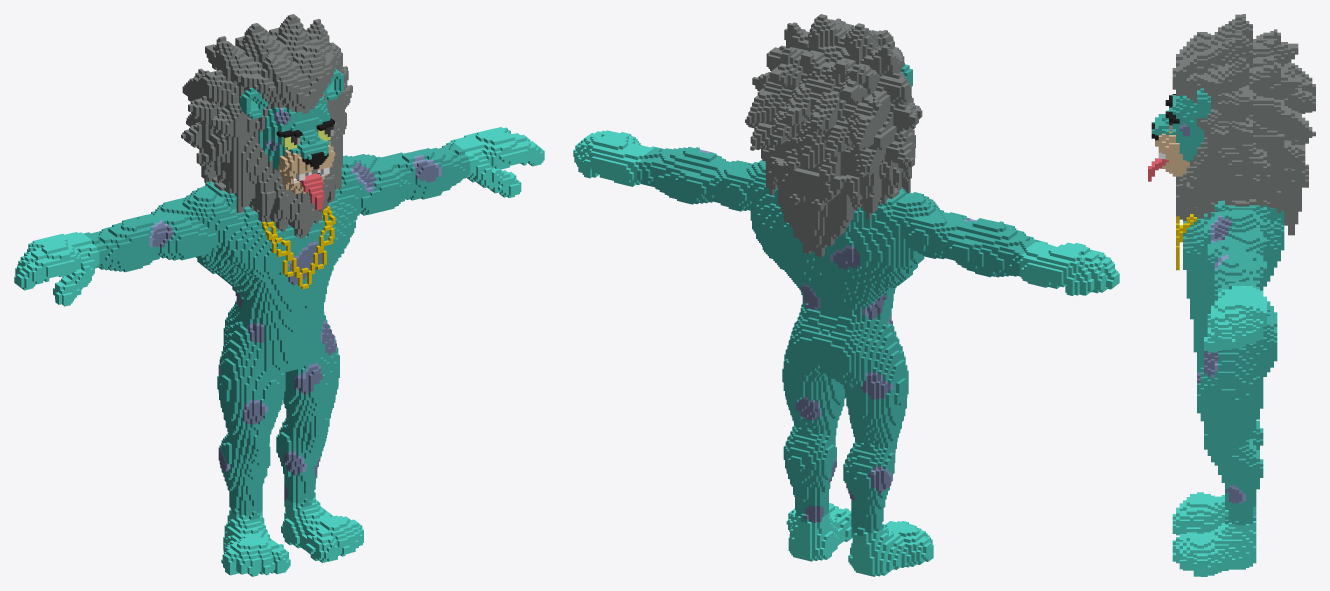
Rendered from 1096-CwSxVIk0.glb.
3 views of the same model, side by side, from view 1: azimuth 30°, elevation 25°; view 2: azimuth 150°, elevation 25°; view 3: azimuth 270°, elevation 25° (orthographic). The views are drawn at different scales.
Parts seen in each view (by area): view 1: tongue_out; view 2: tongue_out; view 3: tongue_out.
Boxes of the visible parts, bbox=[...] form: tongue_out: bbox=[14, 14, 544, 576]; tongue_out: bbox=[573, 14, 1119, 576]; tongue_out: bbox=[1148, 14, 1315, 576].
Bounding box in the file's own units: 17.2 × 16.5 × 4.8.
Materials: 5 (5 with a texture image).
